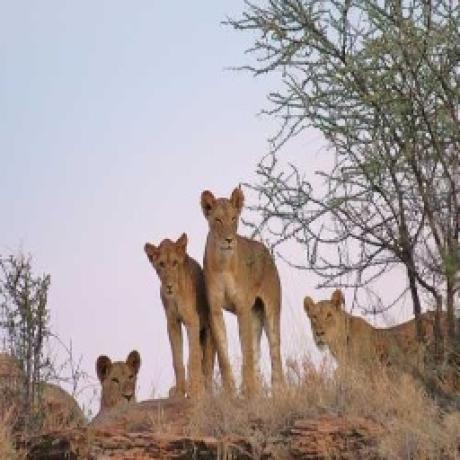Lion: (196, 186, 290, 389), (302, 287, 460, 369), (143, 229, 212, 392), (87, 349, 144, 413)
